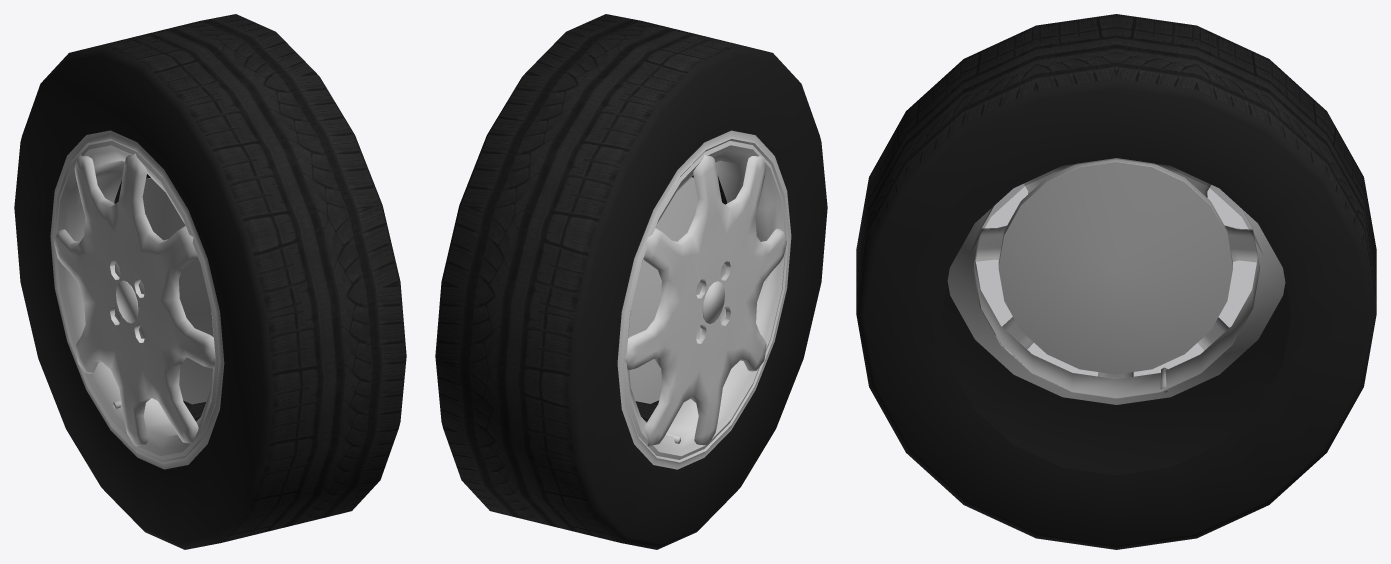
Rendered from BoltGX-prop1.dae.
3 views of the same model, side by side, from view 1: azimuth 30°, elevation 25°; view 2: azimuth 150°, elevation 25°; view 3: azimuth 270°, elevation 25° (orthographic).
Visible parts, largest first — view 1: TIRE_GOL, RIM_GOL; view 2: TIRE_GOL, RIM_GOL; view 3: TIRE_GOL, RIM_GOL.
Part boxes in pixels (bbox=[...]): TIRE_GOL: bbox=[14, 14, 406, 549]; RIM_GOL: bbox=[50, 130, 224, 469]; TIRE_GOL: bbox=[435, 14, 827, 549]; RIM_GOL: bbox=[617, 130, 791, 469]; TIRE_GOL: bbox=[856, 14, 1376, 549]; RIM_GOL: bbox=[941, 158, 1290, 474].
Bounding box in the file's own units: 0.2619 × 0.7605 × 0.7605.
